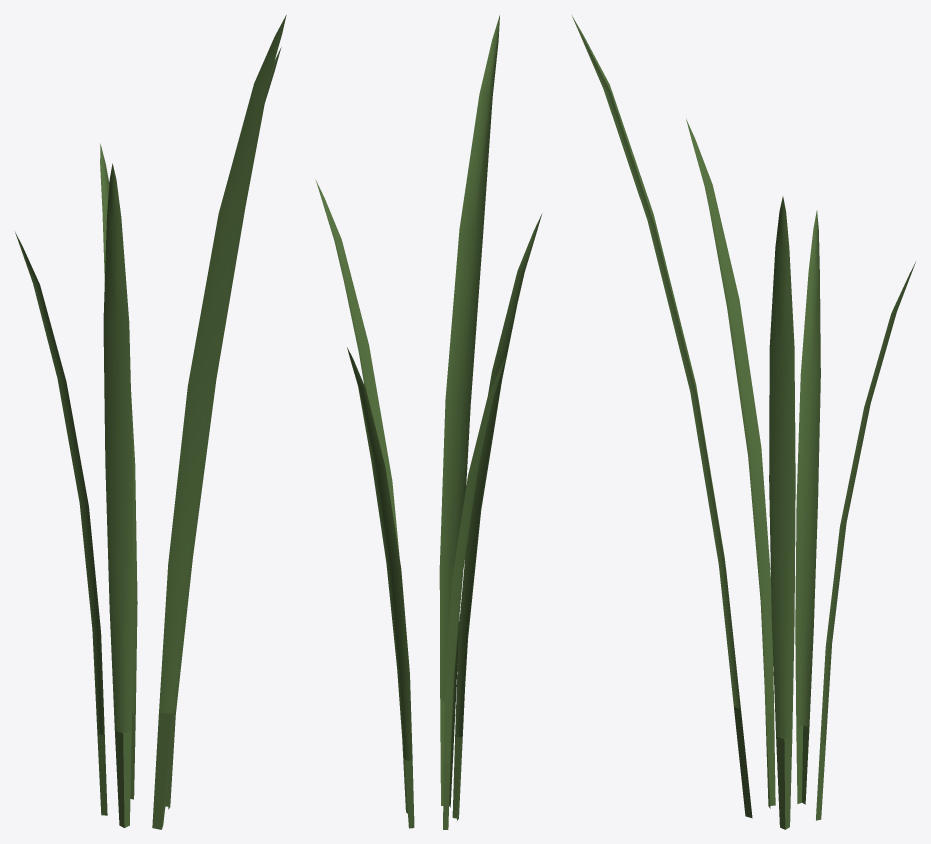
The model's file is Seagrass_tall.fbx.
The picture shows the model from 3 angles, left to right: view 1: azimuth 30°, elevation 25°; view 2: azimuth 150°, elevation 25°; view 3: azimuth 270°, elevation 25°; orthographic projection. The views are drawn at different scales.
Visible parts, largest first — view 1: seagrass_tall; view 2: seagrass_tall; view 3: seagrass_tall.
Boxes of the visible parts, x1,y1,x2,y2 form: seagrass_tall: (15, 15, 286, 829); seagrass_tall: (315, 15, 542, 829); seagrass_tall: (572, 16, 915, 829).
Bounding box in the file's own units: 342 × 1150 × 440.
